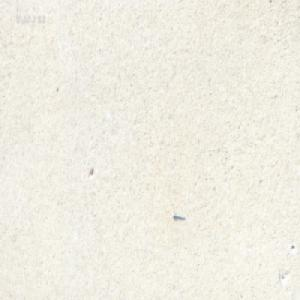Nail: (173, 212, 185, 220)
